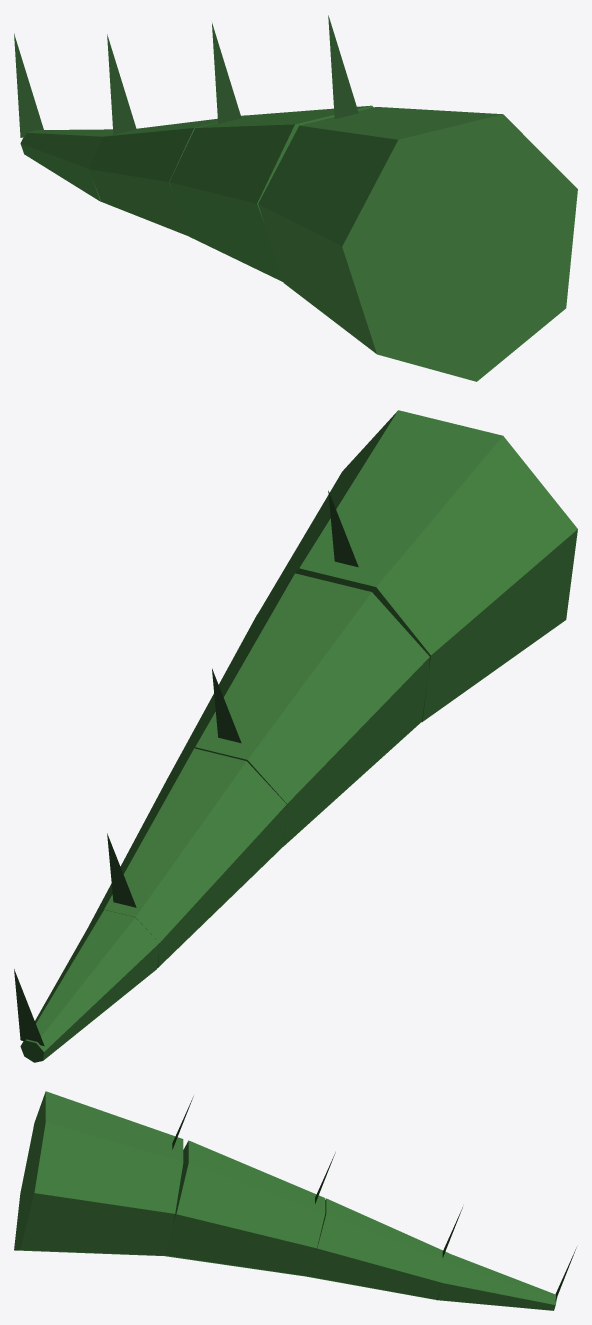
File: dragon_0_tail.glb
3 renders of one model, top to bottom at view 1: azimuth 30°, elevation 25°; view 2: azimuth 150°, elevation 25°; view 3: azimuth 270°, elevation 25°, orthographic. The views are drawn at different scales.
Parts seen in each view (by area): view 1: dragon_0_tail; view 2: dragon_0_tail; view 3: dragon_0_tail.
Part boxes in pixels (x1,y1,x2,y2): dragon_0_tail: [14, 15, 577, 381]; dragon_0_tail: [14, 410, 577, 1062]; dragon_0_tail: [14, 1091, 576, 1310].
Size of the model in its own units: 0.585 by 0.8491 by 1.99.
